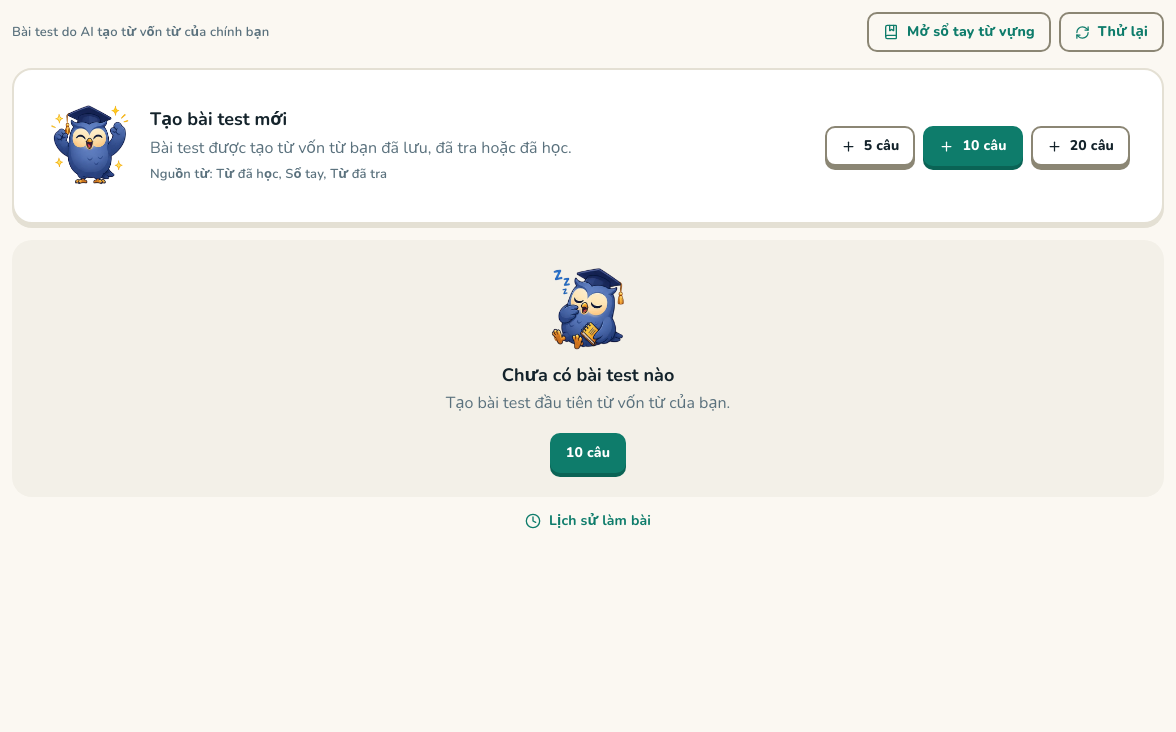
Test: VocabularyListPage — empty and error › turns "not enough vocabulary data" into a dictionary prompt, not a retry
Note: press one of the build buttons
Step 1. Click the button "10 câu" in the row of "Tạo bài test mới" → {"x": 973, "y": 146}, box [923,126,1023,166]
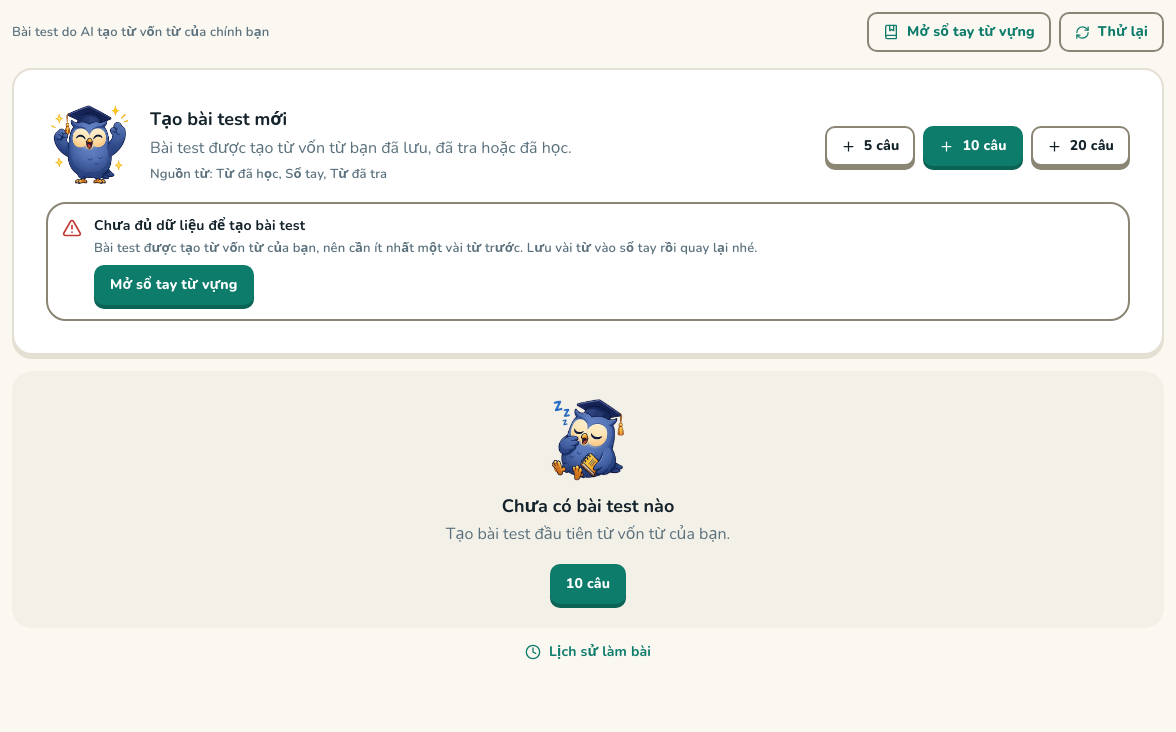
Check: the text "Chưa đủ dữ liệu để tạo bài test" is shown, box [94,216,305,235]
Check: the text "được tạo từ vốn từ của bạn" is shown, box [94,239,758,257]
